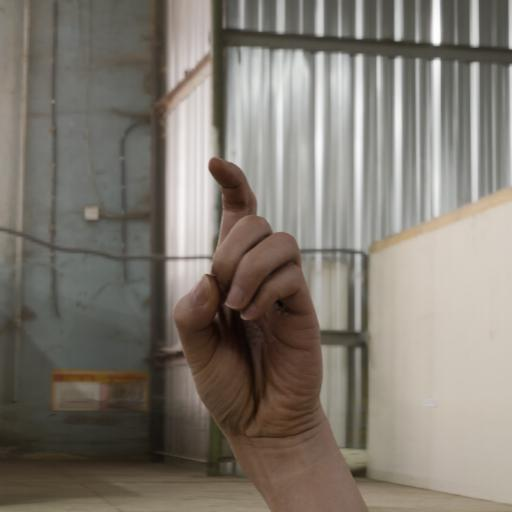X: (162, 139, 346, 512)
